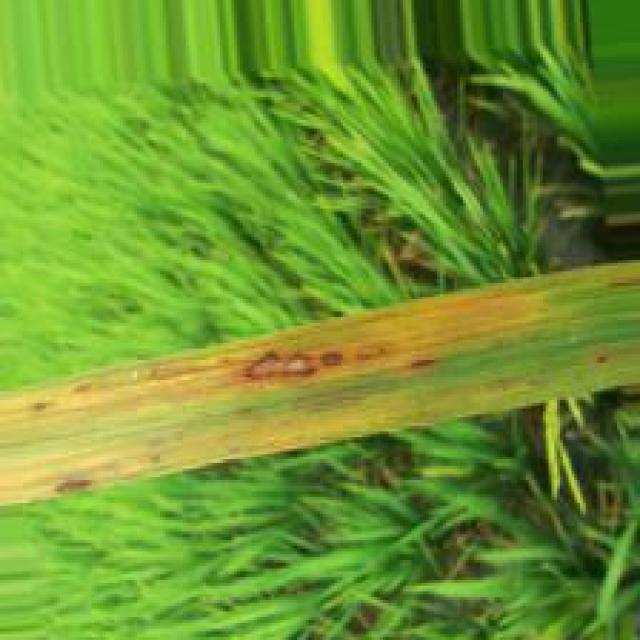Rice Tungro: (241, 347, 329, 381), (322, 350, 350, 369)
